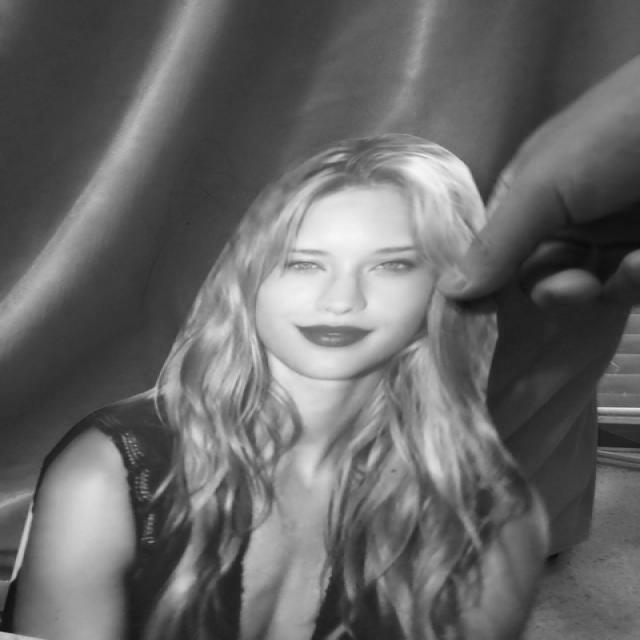fake: (210, 140, 507, 398)
